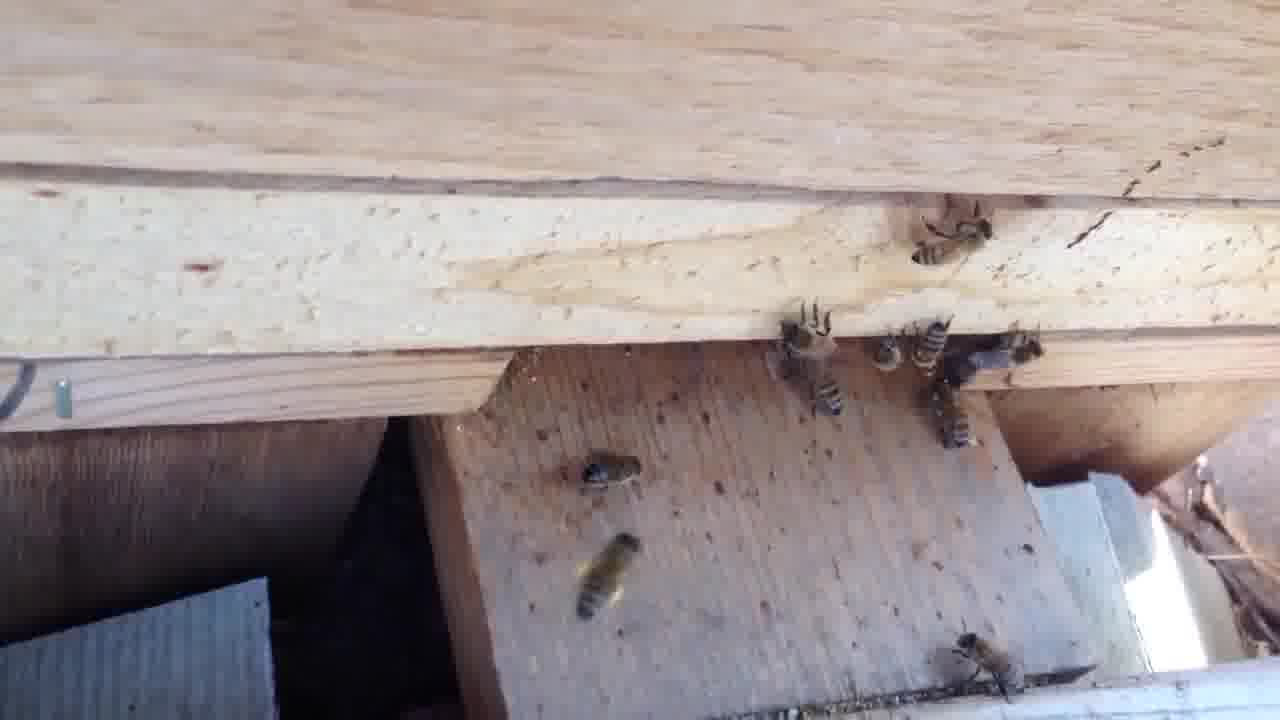pollen: (571, 530, 640, 620)
